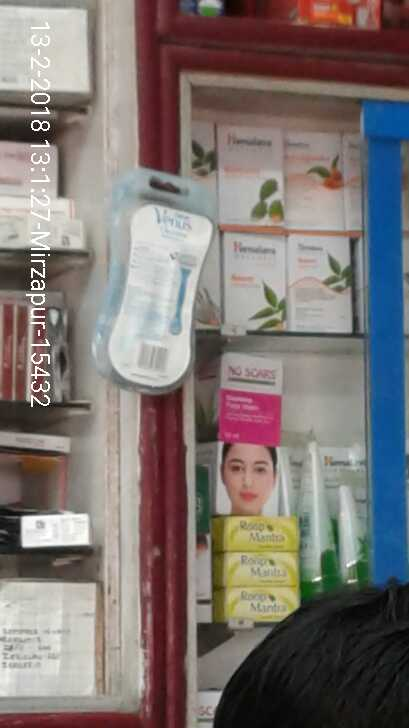reject: (253, 145, 336, 198)
